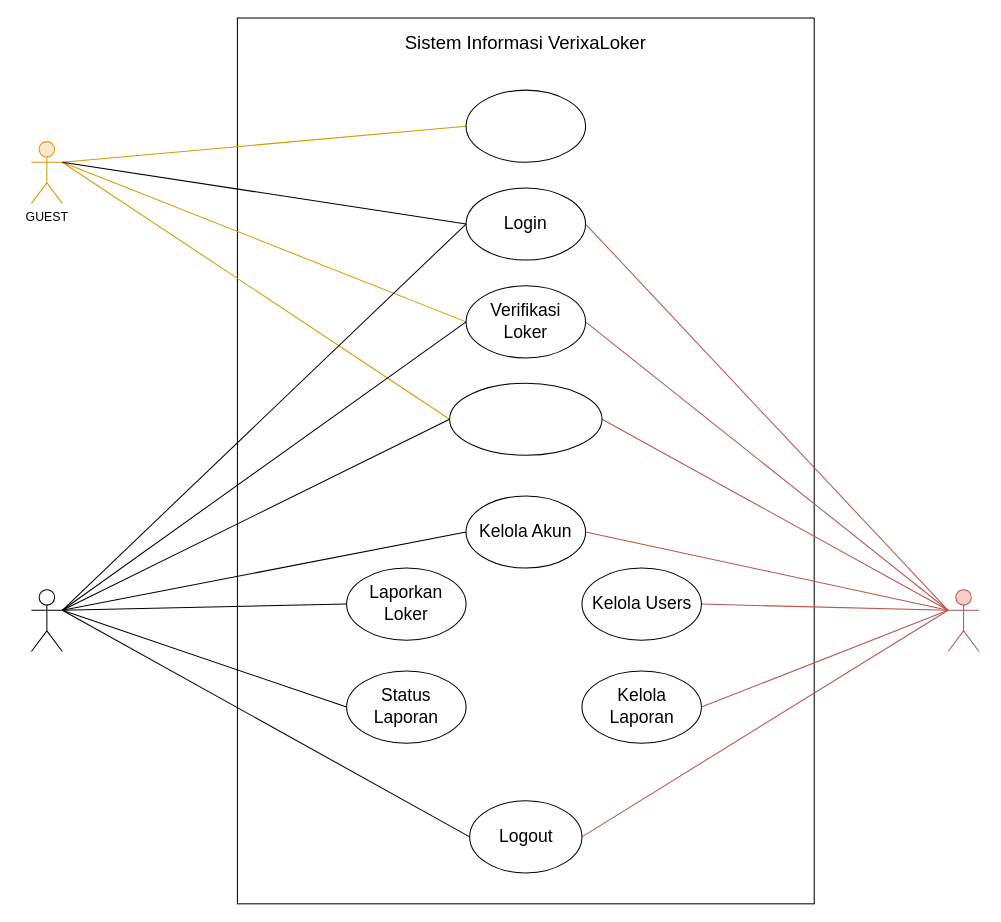
Image size: 1001x922. Some labels were removed from this diagram. The centre of each missing label's shape, as x and y in pixels:
ADMIN: (963,620)
Hasil Verifikasi Loker: (525,418)
PELAPOR: (46,620)
Register: (525,125)
